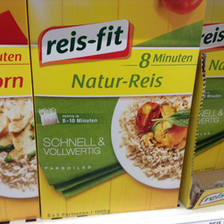rice: (26, 1, 207, 217)
